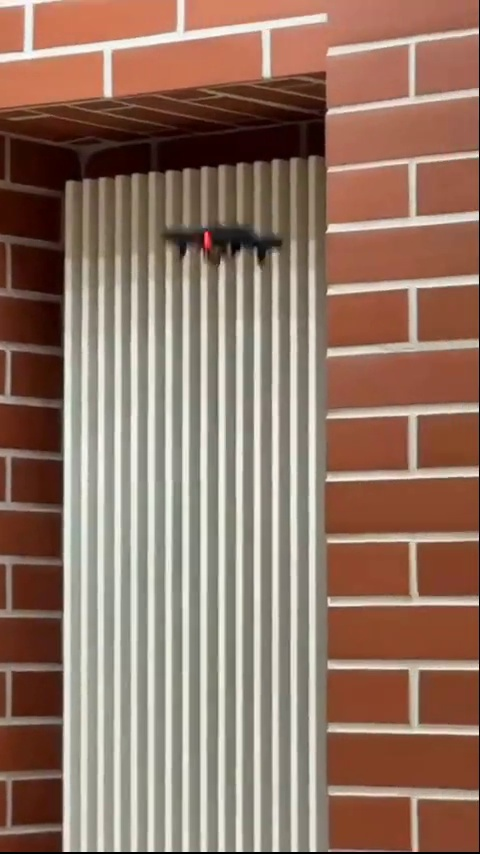drone: (169, 222, 279, 268)
